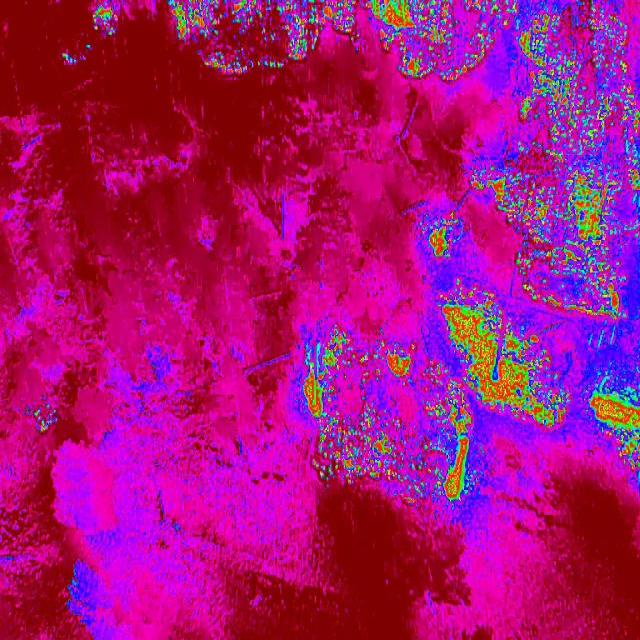fire: (297, 322, 485, 528), (472, 162, 640, 327), (510, 0, 640, 161), (436, 286, 570, 430), (362, 0, 512, 81), (164, 0, 324, 75), (585, 377, 640, 487), (418, 204, 480, 268), (324, 0, 361, 40), (90, 1, 122, 42)
